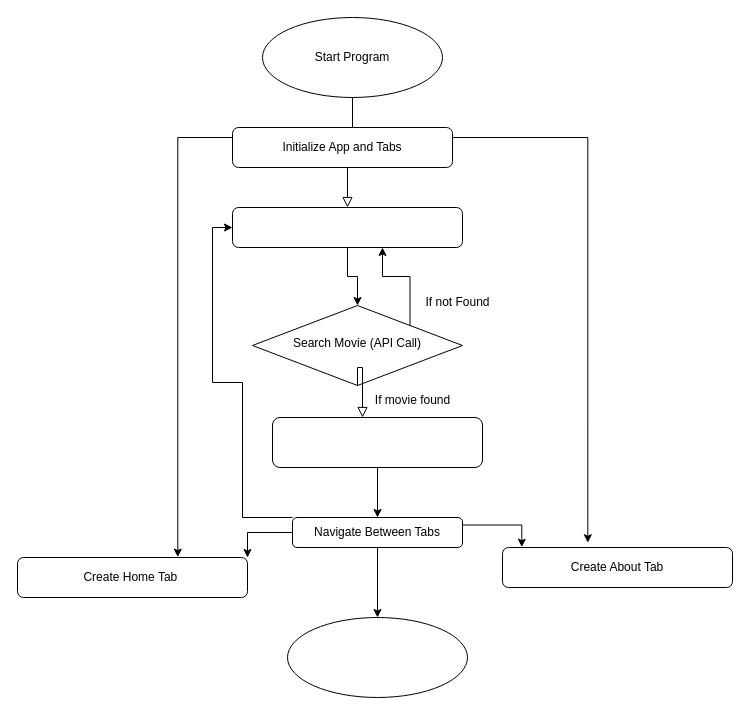
Some shapes in this 750 by 715 pixel diagram are drawn without their labels. Each missing label, with the box of its shape:
Create Movies Tabs: (232, 206, 462, 248)
Display Movie Info(Details, Poster, Overview): (272, 416, 482, 468)
End Program: (286, 616, 468, 698)
